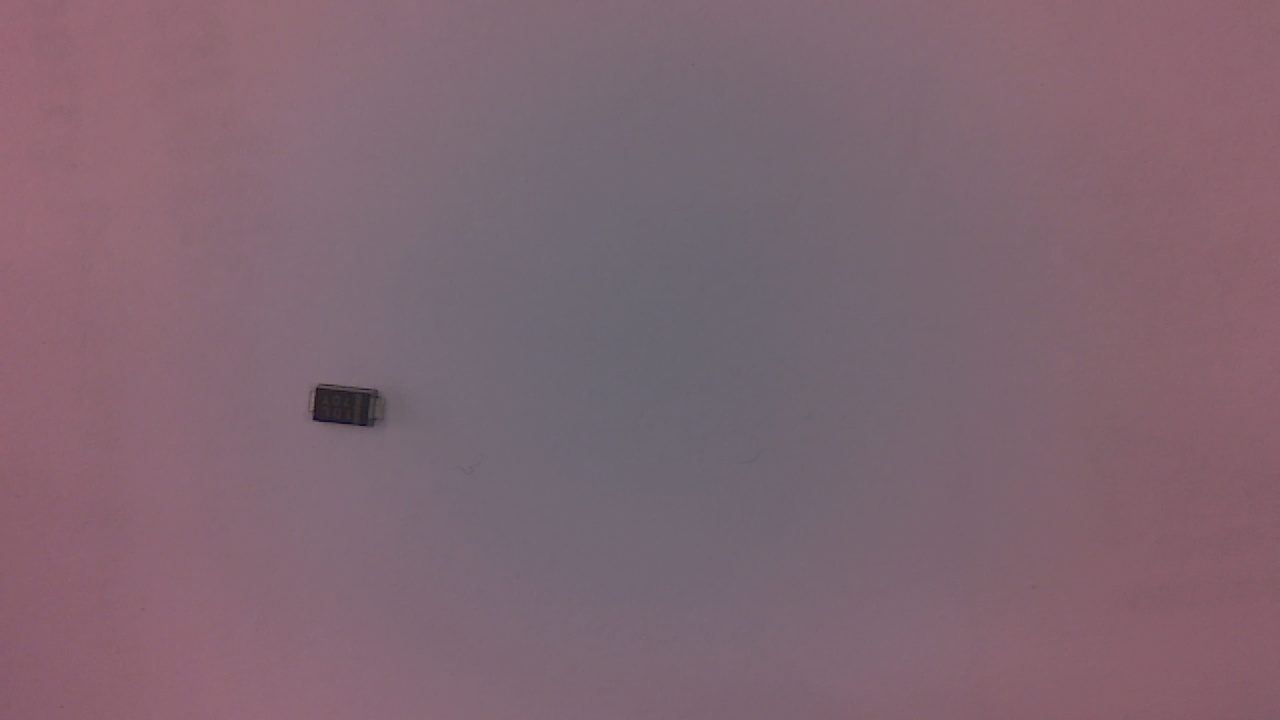Diode: (308, 390, 397, 434)
